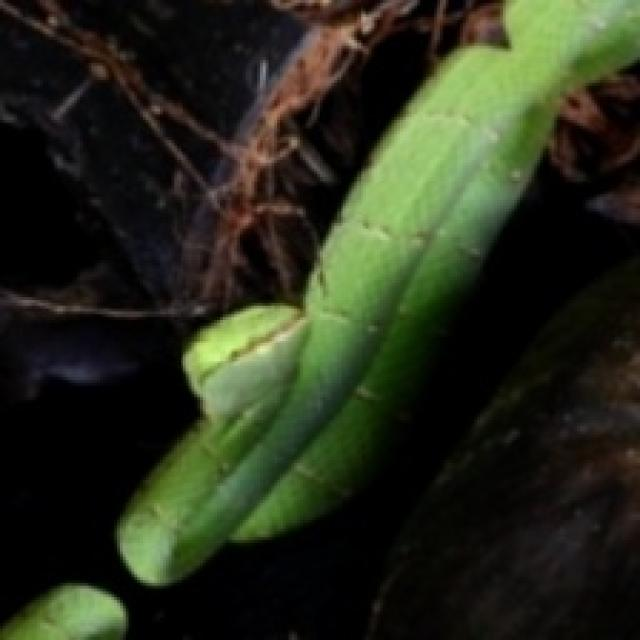north ph temple pitviper: (117, 0, 637, 583), (3, 586, 123, 637)
